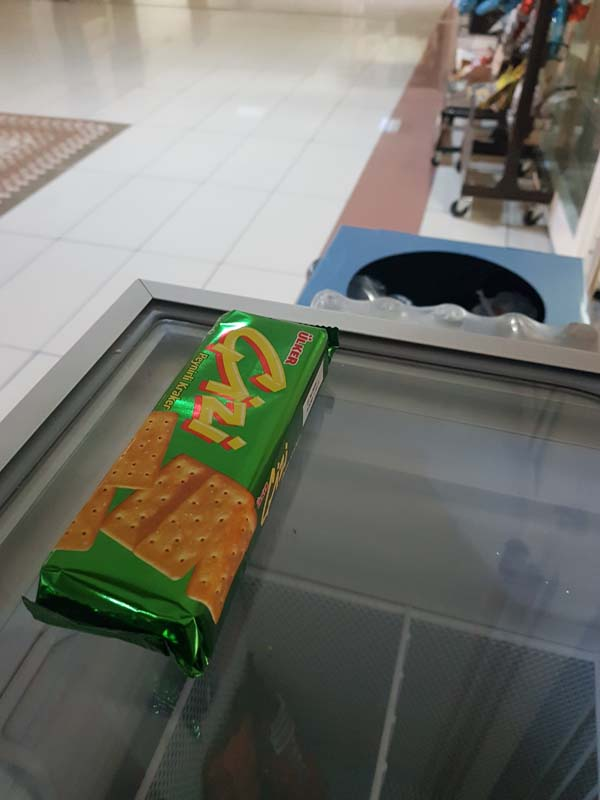cizi: (14, 306, 341, 678)
